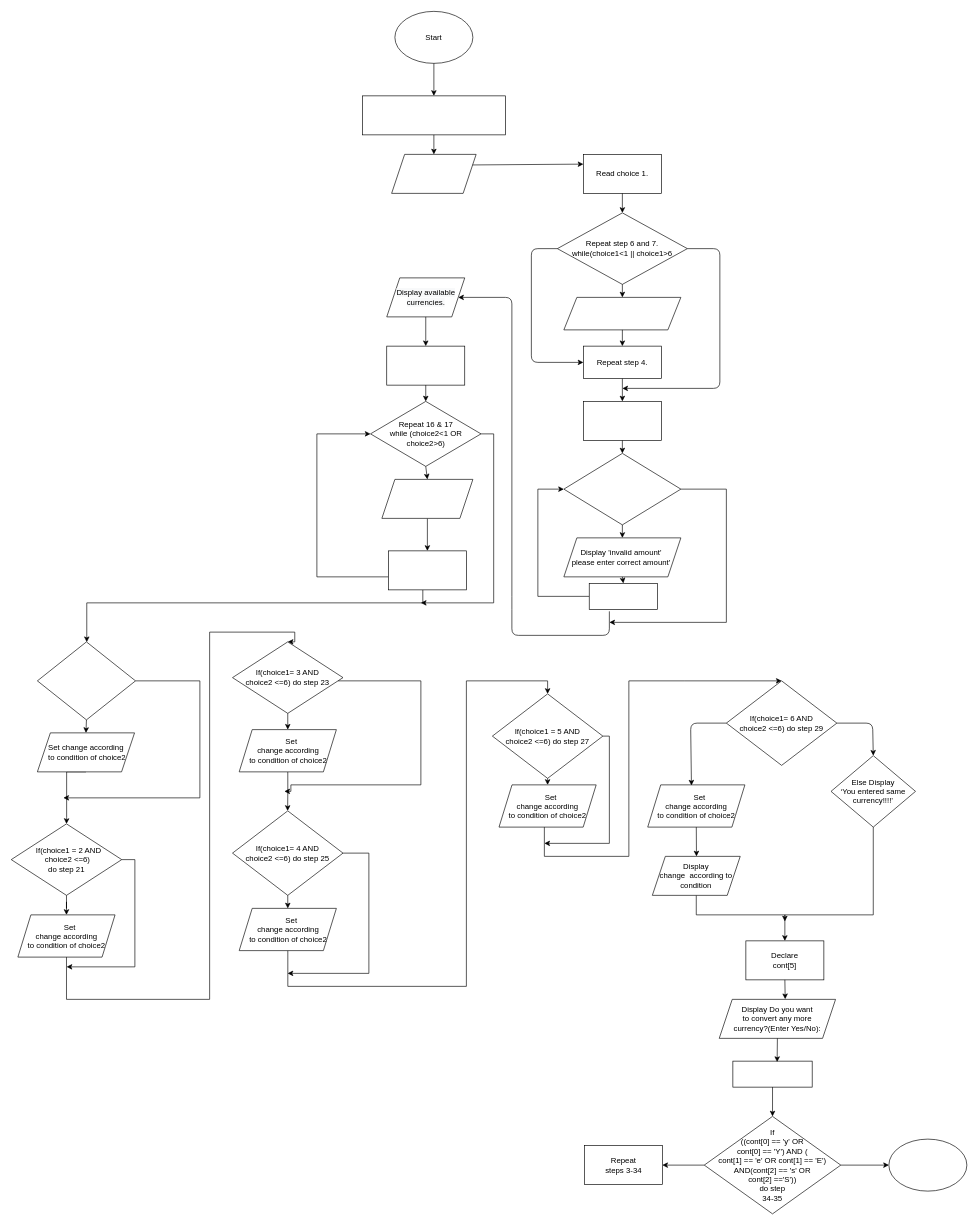
The diagram is 979 pixels wide and 1225 high, and some of its shapes have lost their labels. The box of each missing label's shape, as (x1, y1, x2, y2) in pixels:
Declare variable currency,choice1,choice2,having,change.: (362, 95, 505, 135)
Display 'invalid entry, please Enter (1-6): (563, 297, 681, 330)
Display currency list: (391, 154, 476, 193)
Display ‘Invalid entry, please Enter 1-6: (381, 479, 473, 518)
End.: (888, 1138, 967, 1191)
If(choice1 = 1 AND choice2 <=6) do step 19: (37, 641, 136, 720)
Read choice 2.: (386, 345, 465, 385)
Read cont[5]: (732, 1060, 812, 1087)
Read having amount.: (583, 401, 661, 440)
Repeat step 10 and 11. while(having<=0): (563, 453, 681, 525)
Repeat step 14.: (388, 550, 466, 590)
Repeat step 8.: (589, 583, 657, 609)
